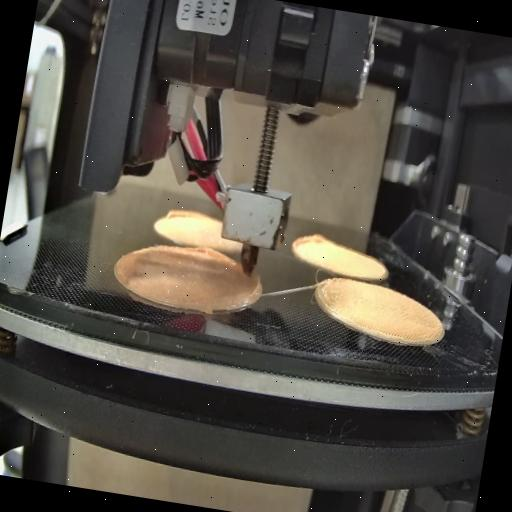over_extrusion: (288, 227, 326, 267), (184, 242, 240, 268), (164, 203, 206, 226), (244, 269, 262, 301)
